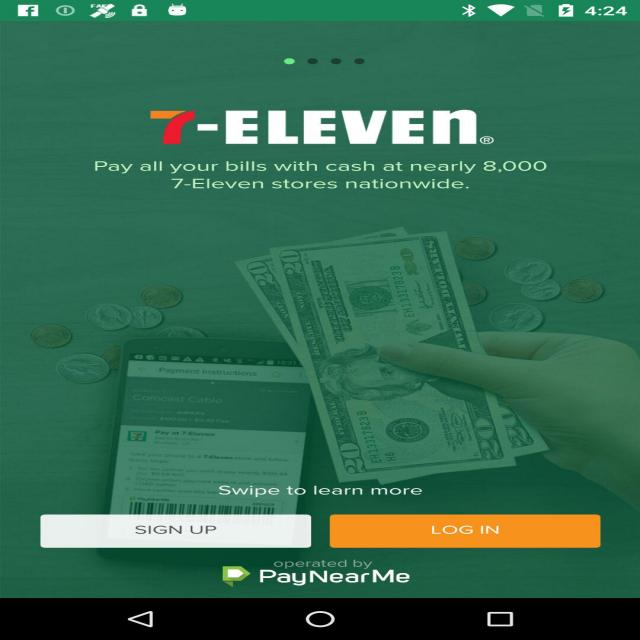button: (32, 508, 336, 556), (323, 510, 627, 552)
icon: (112, 100, 588, 159), (177, 552, 435, 586)
image: (232, 51, 457, 75)
text: (68, 153, 560, 204), (198, 474, 459, 504)
